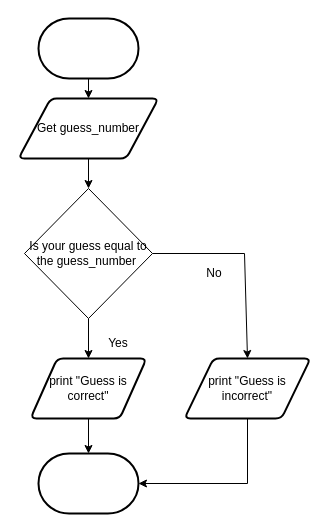
The diagram is 328 pixels wide and 531 high, and some of its shapes have lost their labels. The shapes that lost their labels are listed below. From the top down, each one's centre as x and y in pixels, then its label:
the point at 88,48: Start
the point at 88,483: stop
